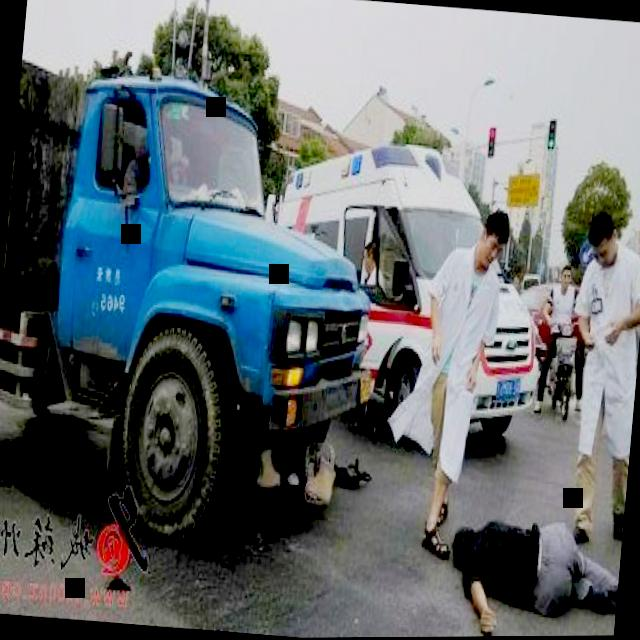Fall-Detected: (434, 483, 625, 637)
